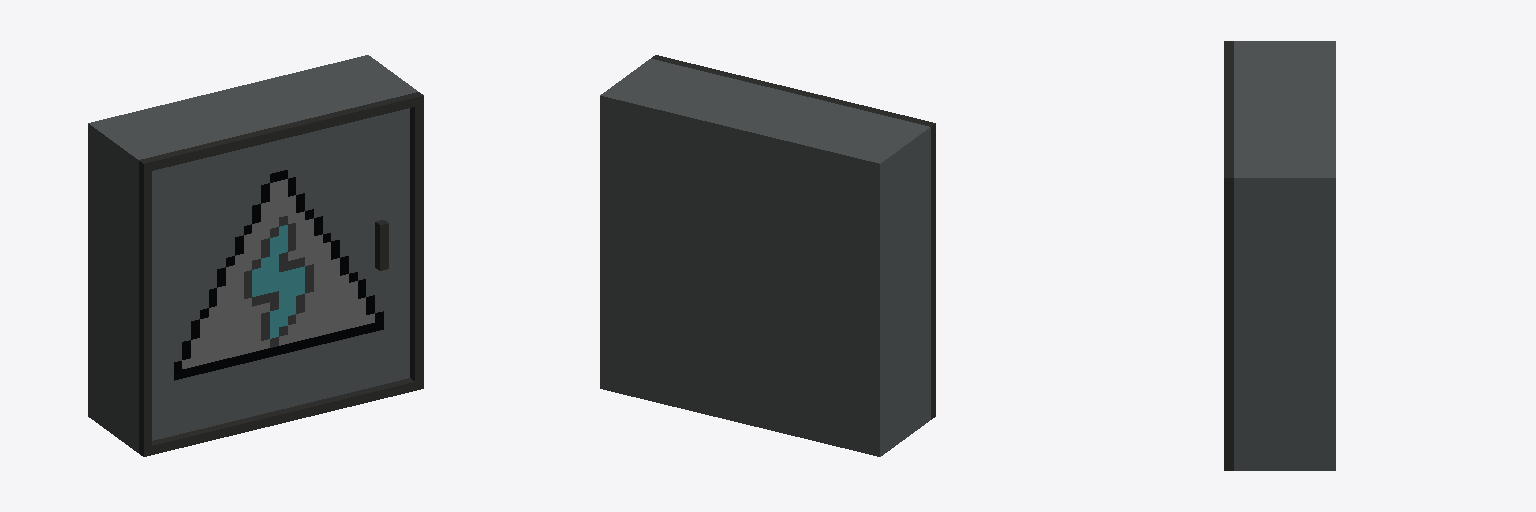
3 renders of one model, left to right at view 1: azimuth 30°, elevation 25°; view 2: azimuth 150°, elevation 25°; view 3: azimuth 270°, elevation 25°, orthographic.
Parts seen in each view (by area): view 1: object 1; view 2: object 1; view 3: object 1.
Boxes of the visible parts, <box> form: object 1: <box>88,55,423,456</box>; object 1: <box>600,55,935,456</box>; object 1: <box>1224,41,1335,470</box>.
Size of the model in its own units: 3.2 by 3.2 by 1.1.
Materials: 1 (1 with a texture image).